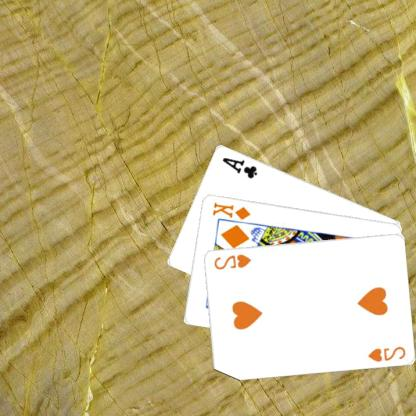2H: (213, 251, 254, 271), (366, 344, 408, 362)
AC: (222, 154, 260, 180)
KD: (211, 199, 253, 221)
